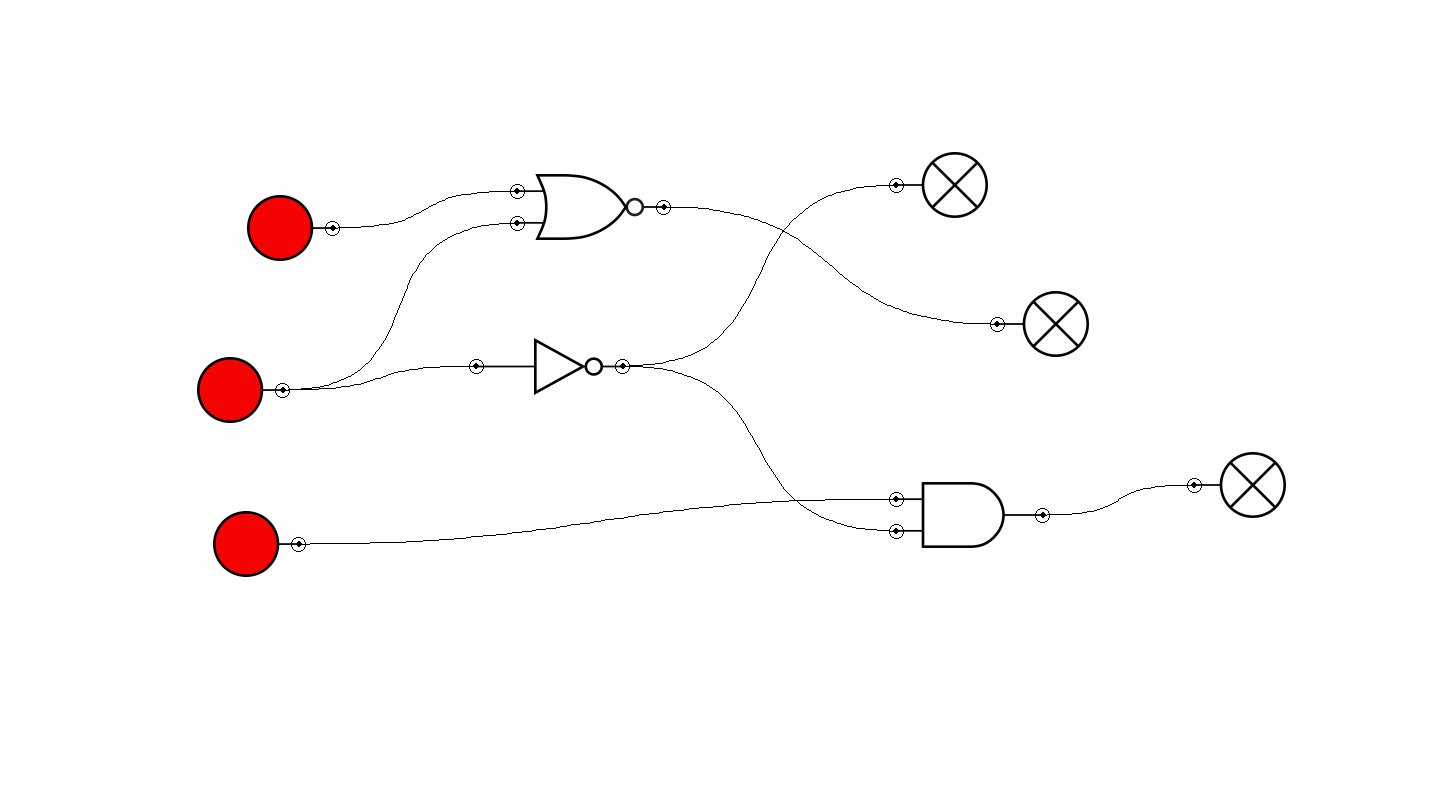and: (889, 482, 1050, 548)
bulb: (990, 291, 1089, 357), (1187, 452, 1286, 518), (889, 152, 988, 218)
nor: (510, 174, 671, 240)
not: (469, 338, 630, 395)
switch_False: (197, 357, 290, 423), (213, 511, 306, 577), (247, 195, 340, 261)
